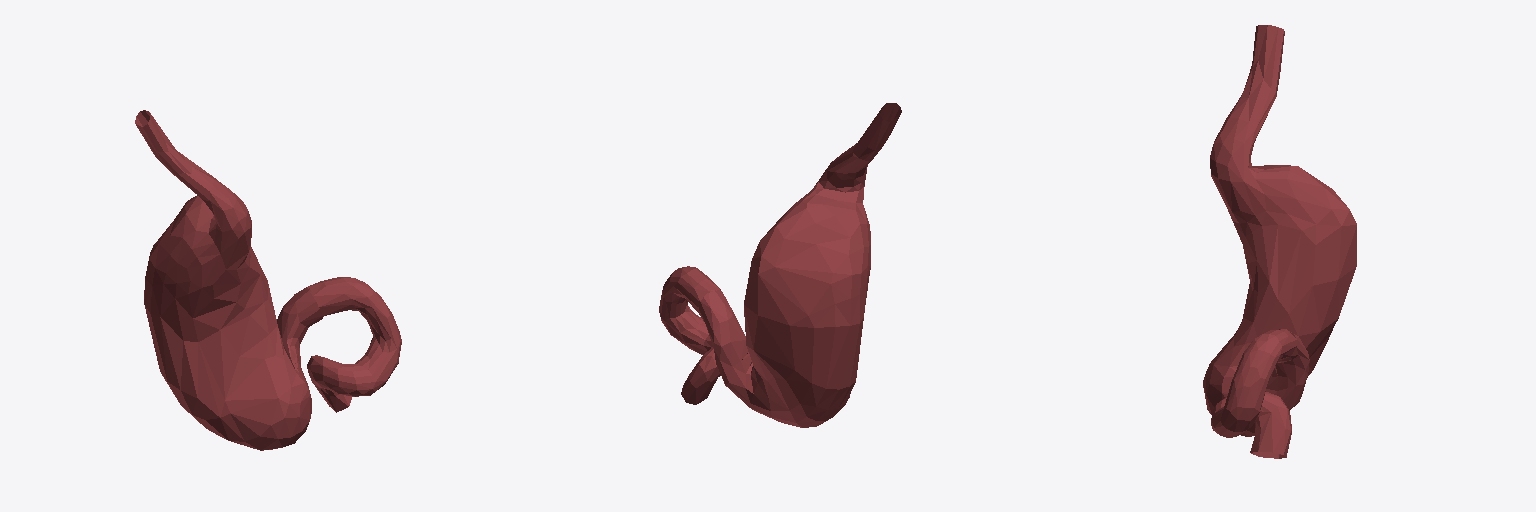
File: duodenalDeform.obj
3 views of the same model, side by side, from view 1: azimuth 30°, elevation 25°; view 2: azimuth 150°, elevation 25°; view 3: azimuth 270°, elevation 25° (orthographic).
Parts seen in each view (by area): view 1: duodenalDeform_tube.001; view 2: duodenalDeform_tube.001; view 3: duodenalDeform_tube.001.
Part boxes in pixels (left/top/right/bottom): duodenalDeform_tube.001: left=135, top=110, right=401, bottom=450; duodenalDeform_tube.001: left=659, top=103, right=901, bottom=427; duodenalDeform_tube.001: left=1203, top=25, right=1356, bottom=458.
Size of the model in its own units: 8.99 by 12.26 by 4.87.